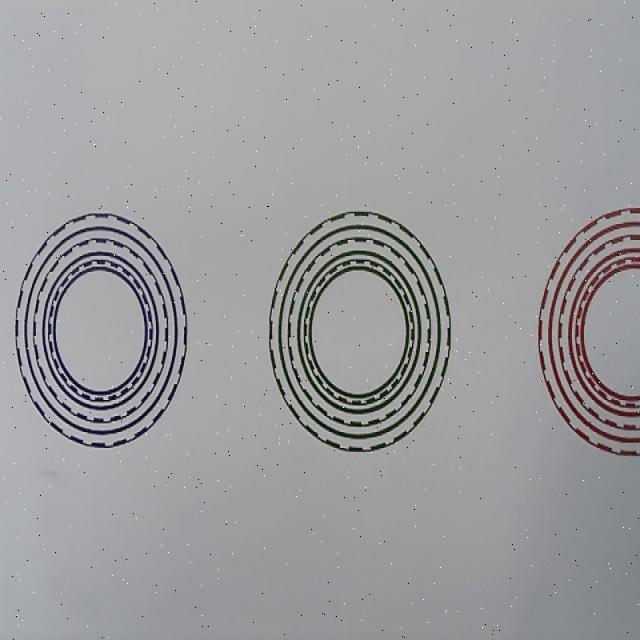b: (14, 211, 189, 449)
g: (268, 210, 451, 454)
